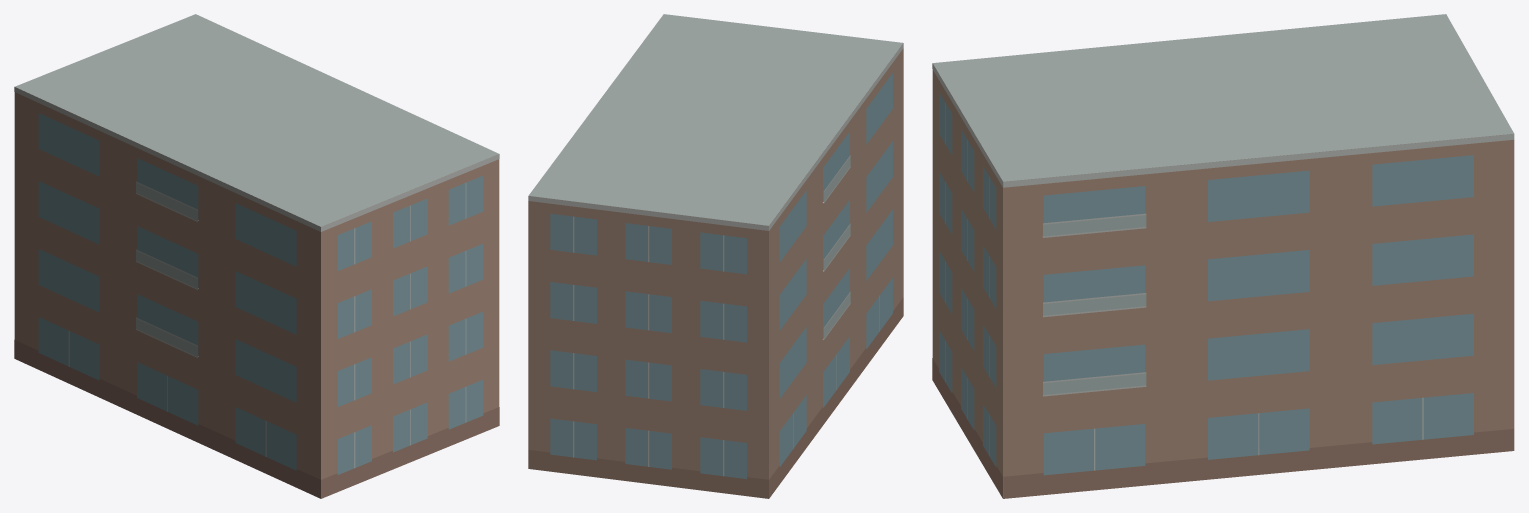
The model's file is survey-upis-32505057.glb.
3 views of the same model, side by side, from view 1: azimuth 30°, elevation 25°; view 2: azimuth 150°, elevation 25°; view 3: azimuth 270°, elevation 25° (orthographic). The views are drawn at different scales.
Visible parts, largest first — view 1: survey-upis-32505057.tmp; view 2: survey-upis-32505057.tmp; view 3: survey-upis-32505057.tmp.
Boxes of the visible parts, x1,y1,x2,y2 form: survey-upis-32505057.tmp: [14, 14, 499, 498]; survey-upis-32505057.tmp: [528, 14, 903, 498]; survey-upis-32505057.tmp: [932, 14, 1514, 498].
Bounding box in the file's own units: 14.76 × 13 × 21.63.
